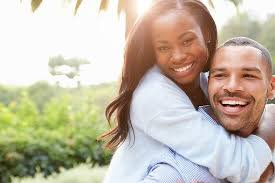noMask: (137, 1, 211, 82), (214, 46, 275, 132)
